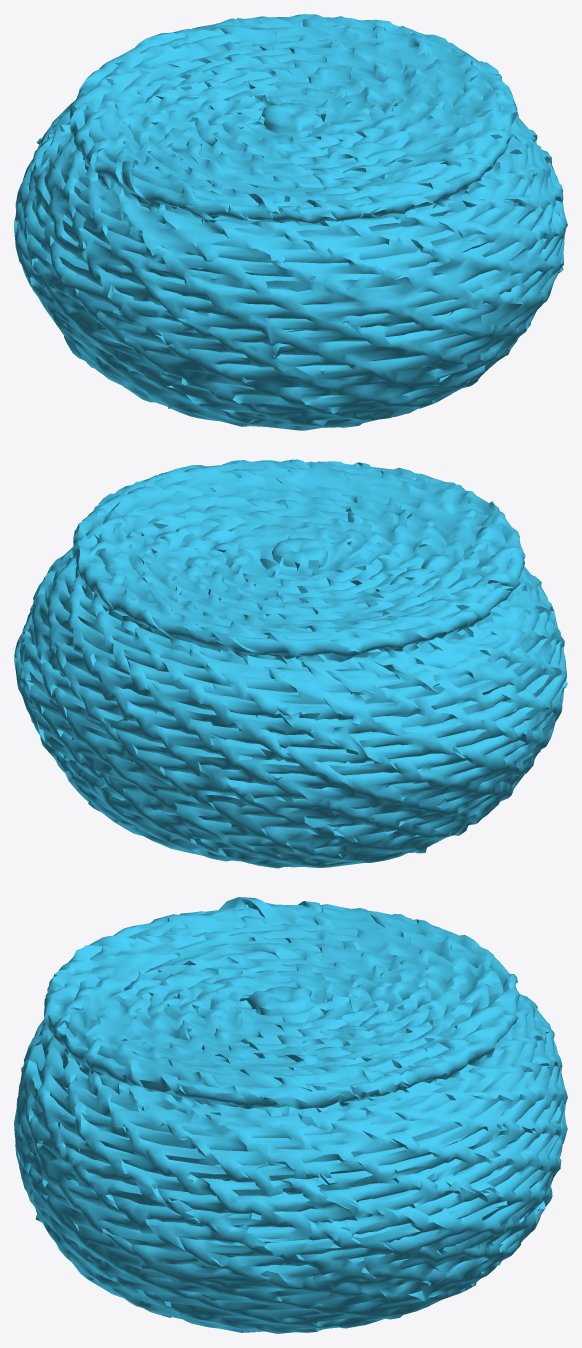
3 renders of one model, top to bottom at view 1: azimuth 30°, elevation 25°; view 2: azimuth 150°, elevation 25°; view 3: azimuth 270°, elevation 25°, orthographic. The views are drawn at different scales.
Parts seen in each view (by area): view 1: split_parent_0; view 2: split_parent_0; view 3: split_parent_0.
Part boxes in pixels (x1=…): split_parent_0: x1=14, y1=14, x2=567, y2=430; split_parent_0: x1=14, y1=459, x2=567, y2=868; split_parent_0: x1=14, y1=897, x2=567, y2=1333.
Bounding box in the file's own units: 1 × 0.5237 × 0.9433.
